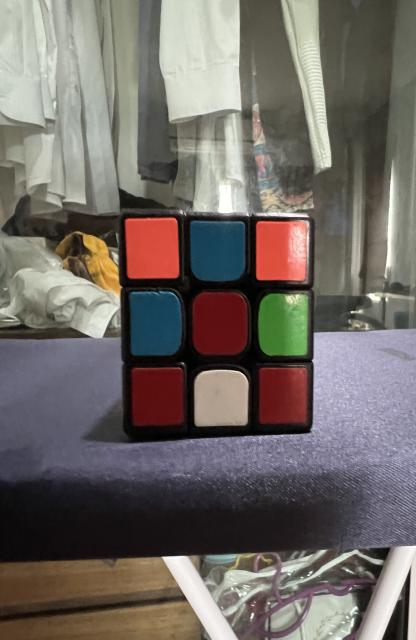Blue: (129, 291, 182, 356), (190, 220, 246, 281)
Green: (258, 294, 309, 356)
Orange: (125, 218, 180, 279), (256, 221, 308, 281)
Red: (192, 291, 248, 355), (131, 368, 184, 426), (259, 368, 308, 424)
White: (194, 369, 249, 426)
